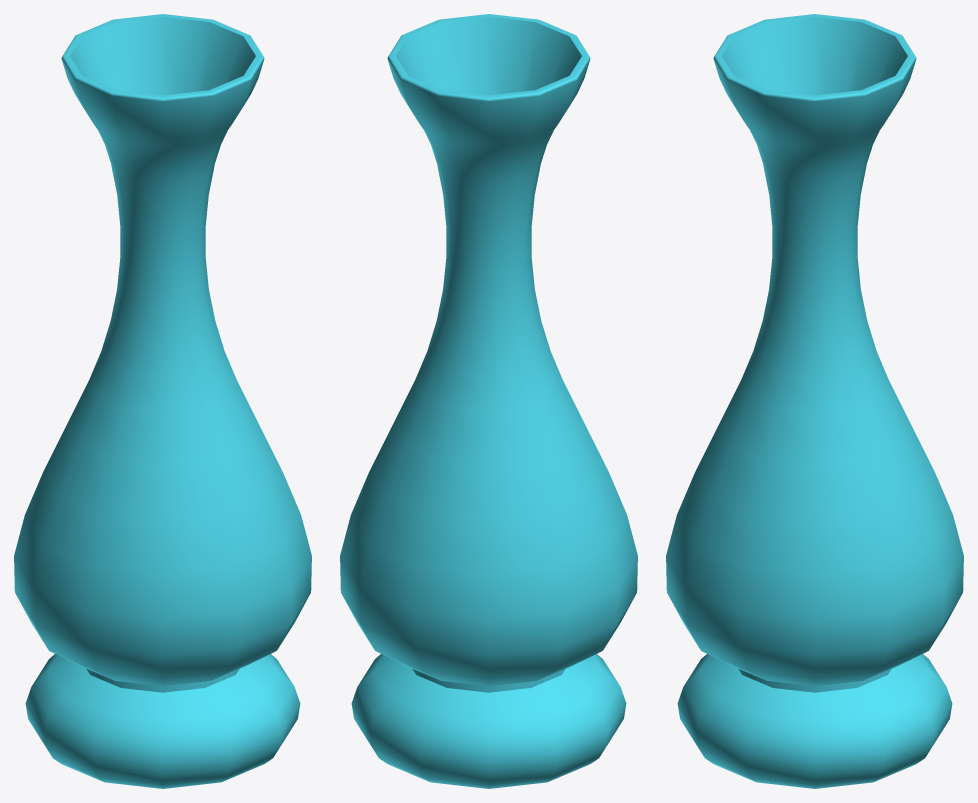
File: potion04.FBX
3 renders of one model, left to right at view 1: azimuth 30°, elevation 25°; view 2: azimuth 150°, elevation 25°; view 3: azimuth 270°, elevation 25°, orthographic.
Parts seen in each view (by area): view 1: potion_04glass; view 2: potion_04glass; view 3: potion_04glass.
Part boxes in pixels (x1=…): potion_04glass: x1=14, y1=14, x2=311, y2=788; potion_04glass: x1=340, y1=14, x2=637, y2=788; potion_04glass: x1=666, y1=14, x2=963, y2=788.
Size of the model in its own units: 19.01 by 48.26 by 19.01.
